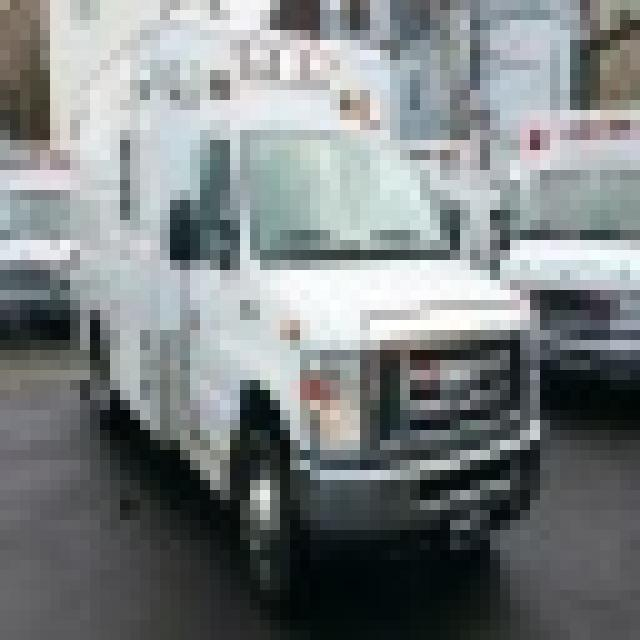Ambulance: (60, 0, 540, 600)
